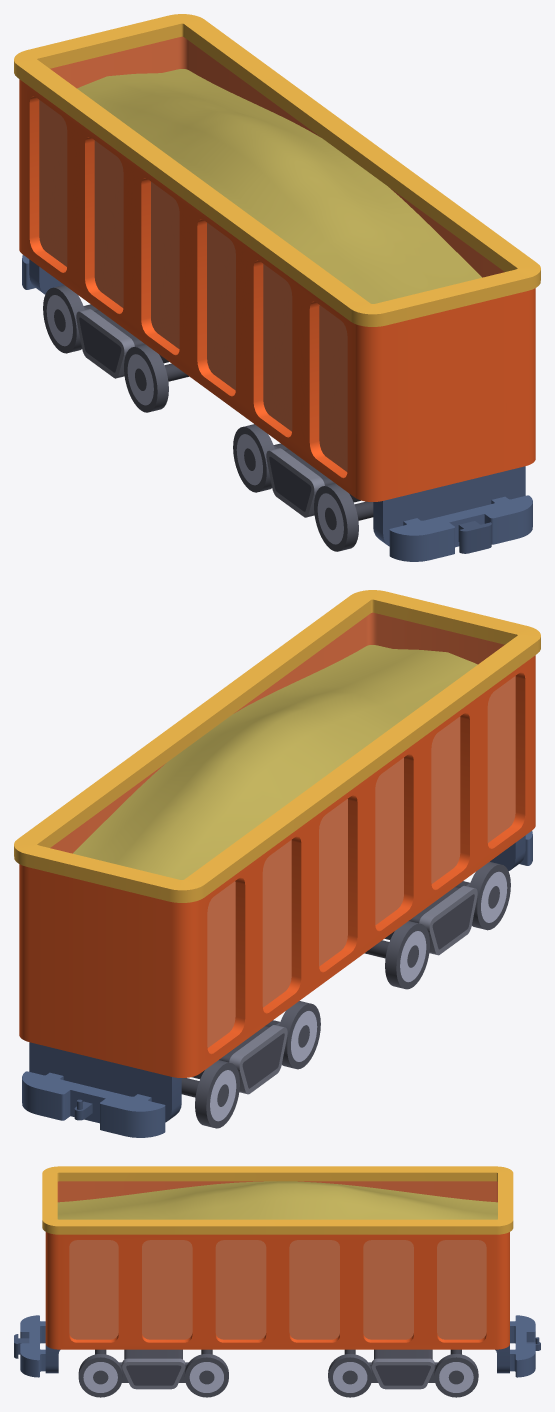
The model's file is Wagon Sand.fbx.
The picture shows the model from 3 angles, top to bottom: view 1: azimuth 30°, elevation 25°; view 2: azimuth 150°, elevation 25°; view 3: azimuth 270°, elevation 25°; orthographic projection. The views are drawn at different scales.
Parts seen in each view (by area): view 1: Wagon Sand, Sand, Wagon Sand Wheel.005, Wagon Sand Wheel.004, Wagon Sand Wheel, Wagon Sand Wheel.002, Wagon Sand Wheel.001, Wagon Sand Wheel.003; view 2: Wagon Sand, Sand, Wagon Sand Wheel.004, Wagon Sand Wheel.005, Wagon Sand Wheel.003, Wagon Sand Wheel.001, Wagon Sand Wheel.002, Wagon Sand Wheel; view 3: Wagon Sand, Sand, Wagon Sand Wheel.004, Wagon Sand Wheel.005, Wagon Sand Wheel.003, Wagon Sand Wheel.002, Wagon Sand Wheel, Wagon Sand Wheel.001.
Boxes of the visible parts, x1,y1,x2,y2 form: Wagon Sand: [14, 14, 540, 561]; Sand: [77, 69, 481, 303]; Wagon Sand Wheel.005: [266, 445, 360, 517]; Wagon Sand Wheel.004: [76, 306, 168, 378]; Wagon Sand Wheel: [314, 483, 373, 551]; Wagon Sand Wheel.002: [124, 344, 188, 412]; Wagon Sand Wheel.001: [233, 424, 288, 492]; Wagon Sand Wheel.003: [43, 285, 98, 353]; Wagon Sand: [14, 590, 540, 1137]; Sand: [73, 645, 477, 879]; Wagon Sand Wheel.004: [191, 1022, 287, 1094]; Wagon Sand Wheel.005: [384, 883, 477, 955]; Wagon Sand Wheel.003: [181, 1060, 239, 1128]; Wagon Sand Wheel.001: [364, 921, 429, 989]; Wagon Sand Wheel.002: [265, 1001, 320, 1069]; Wagon Sand Wheel: [455, 861, 510, 930]; Wagon Sand: [14, 1166, 540, 1377]; Sand: [57, 1181, 497, 1219]; Wagon Sand Wheel.004: [368, 1349, 437, 1389]; Wagon Sand Wheel.005: [119, 1349, 188, 1389]; Wagon Sand Wheel.003: [434, 1349, 478, 1397]; Wagon Sand Wheel.002: [328, 1349, 372, 1397]; Wagon Sand Wheel: [78, 1349, 122, 1397]; Wagon Sand Wheel.001: [184, 1349, 228, 1397].
Bounding box in the file's own units: 2.71 × 3.95 × 10.1.
